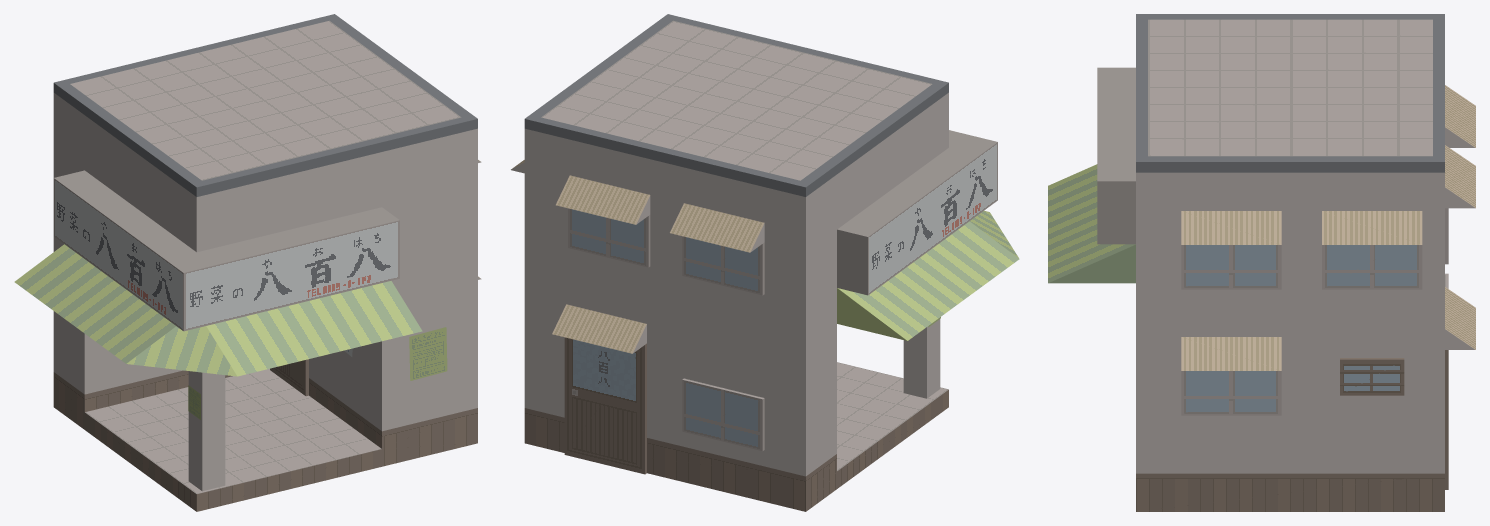
The model's file is 0295_Fruit_Veg_Shop.glb.
3 renders of one model, left to right at view 1: azimuth 30°, elevation 25°; view 2: azimuth 150°, elevation 25°; view 3: azimuth 270°, elevation 25°, orthographic. The views are drawn at different scales.
Parts seen in each view (by area): view 1: part_0; view 2: part_0; view 3: part_0.
Part boxes in pixels (x1,y1,x2,y2): part_0: (14, 14, 481, 511); part_0: (511, 14, 1019, 511); part_0: (1048, 14, 1475, 511).
Bounding box in the file's own units: 6.07 × 5 × 5.54.
1 material, 1 textured.
